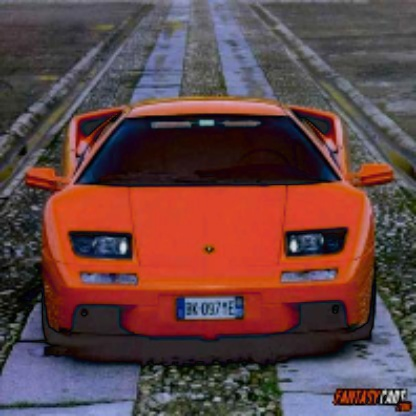Vehicle: (25, 95, 394, 365)
